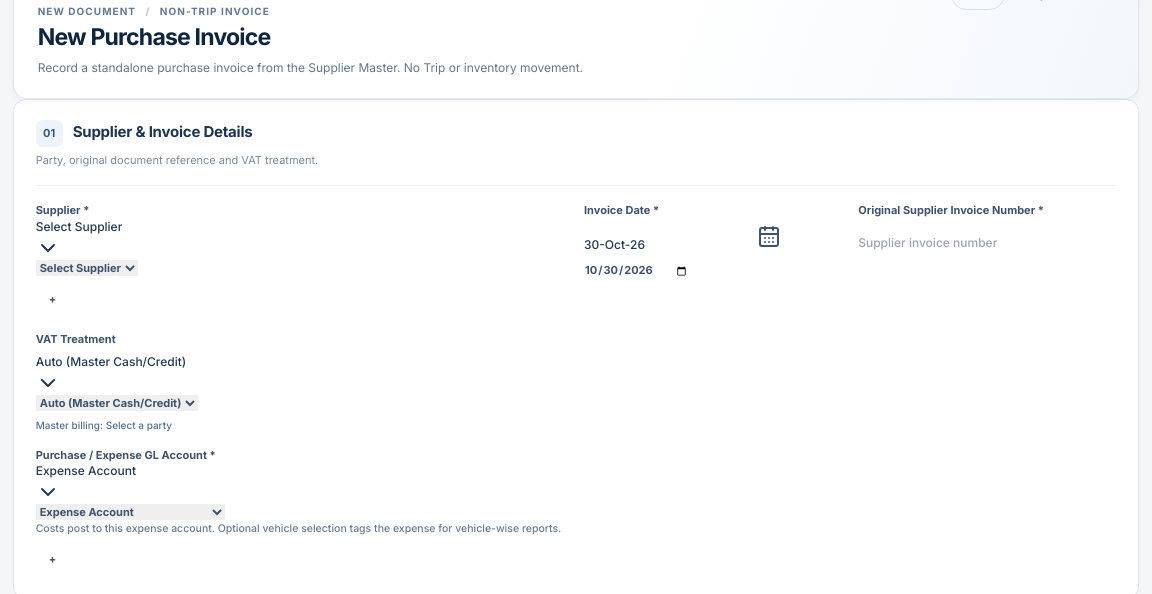
it: Normal Transport Sales and Purchase UI, without Trip linkage › blocks misleading totals and posting when effective VAT lookup fails
The width and height of the screenshot is (1152, 594).
Expected: the dropdown named "Normal invoice ledger account" shows "Expense Account", x1=36 y1=504 x2=225 y2=520
Select "Master a" in the dropdown named "Normal invoice supplier" at (87, 268), box x1=36 y1=260 x2=138 y2=276
(page scrolled)
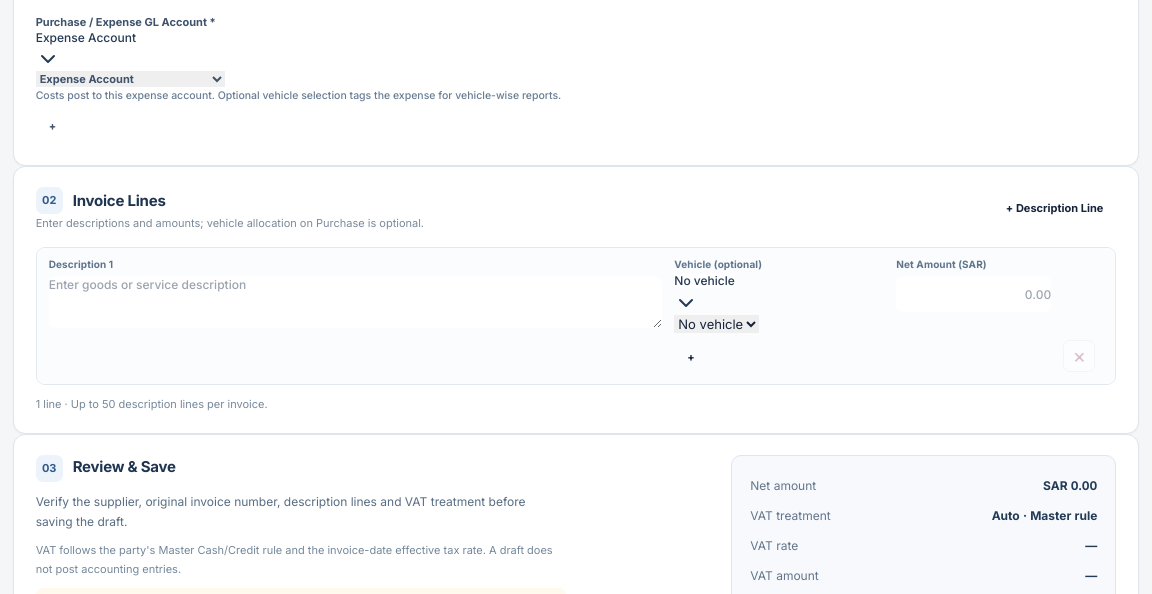
Type "Supplier cost" into the text box labelled "Description 1" at (356, 302), box x1=49 y1=276 x2=662 y2=328
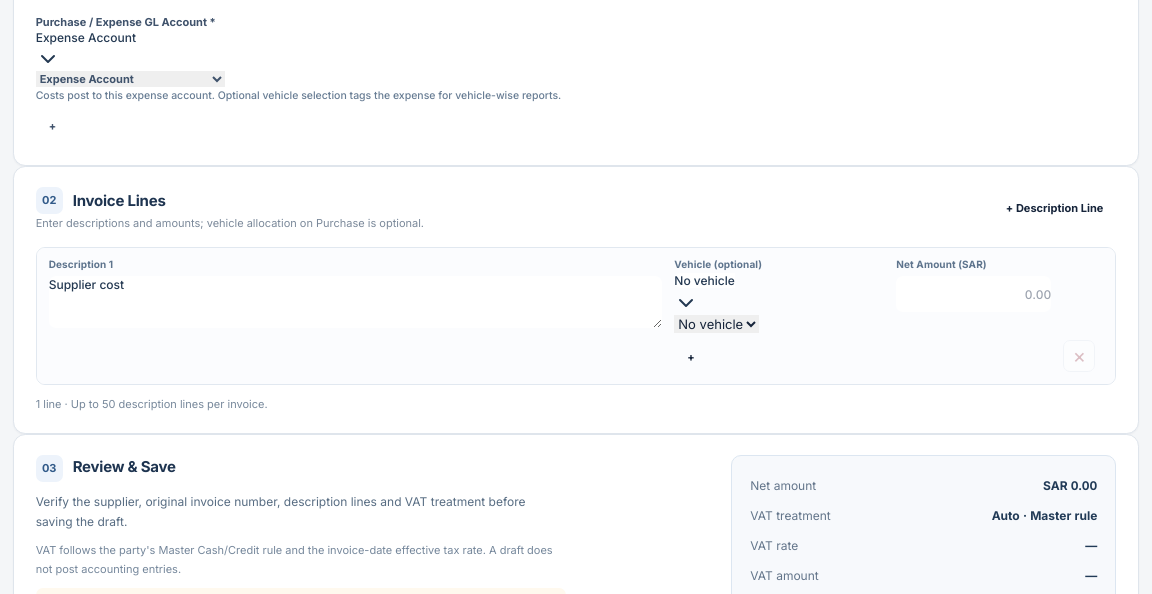
Type "100" into the field named "Amount 1" at (974, 294), box x1=896 y1=276 x2=1051 y2=312
(page scrolled)
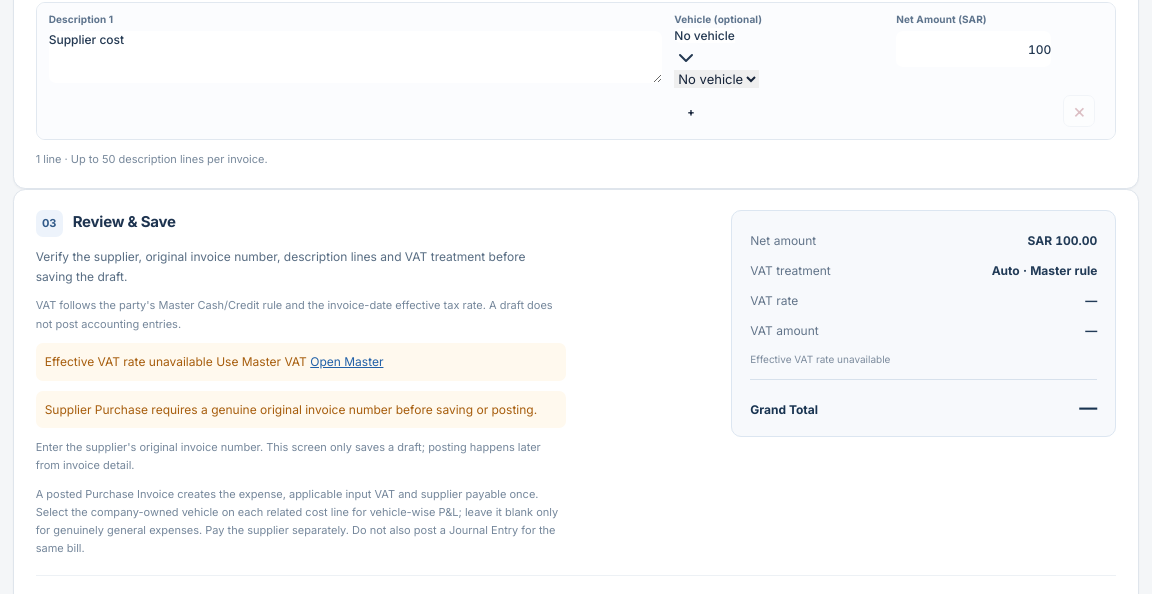
Expected: the message "Effective VAT rate unavailable Use Master VAT Open Master" is shown, x1=36 y1=343 x2=566 y2=380
